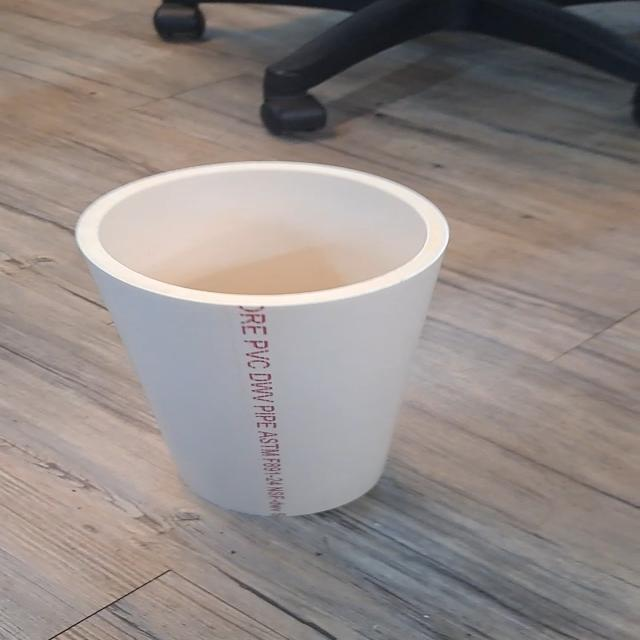CORAL: (45, 160, 513, 526)
